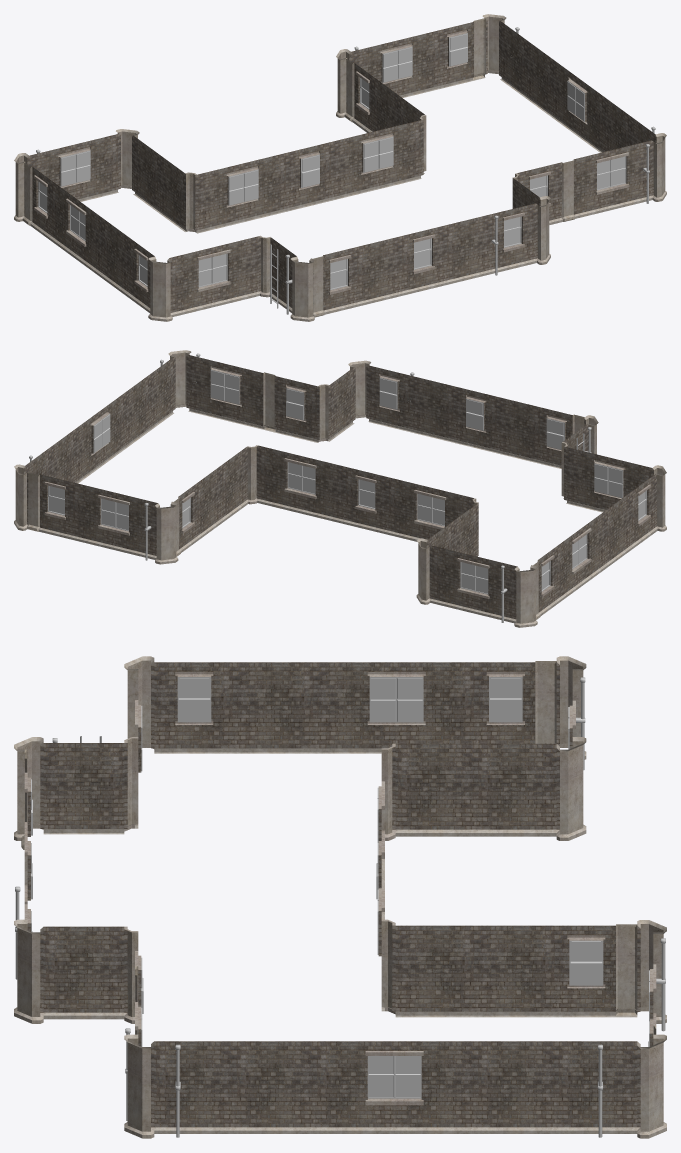
The model's file is build10_el3.fbx.
3 renders of one model, top to bottom at view 1: azimuth 30°, elevation 25°; view 2: azimuth 150°, elevation 25°; view 3: azimuth 270°, elevation 25°, orthographic. The views are drawn at different scales.
Visible parts, largest first — view 1: polySurface42; view 2: polySurface42; view 3: polySurface42.
Part boxes in pixels (x1,y1,x2,y2): polySurface42: [14, 14, 666, 321]; polySurface42: [14, 350, 666, 627]; polySurface42: [14, 656, 666, 1138].
Size of the model in its own units: 23.79 by 2.61 by 16.81.
